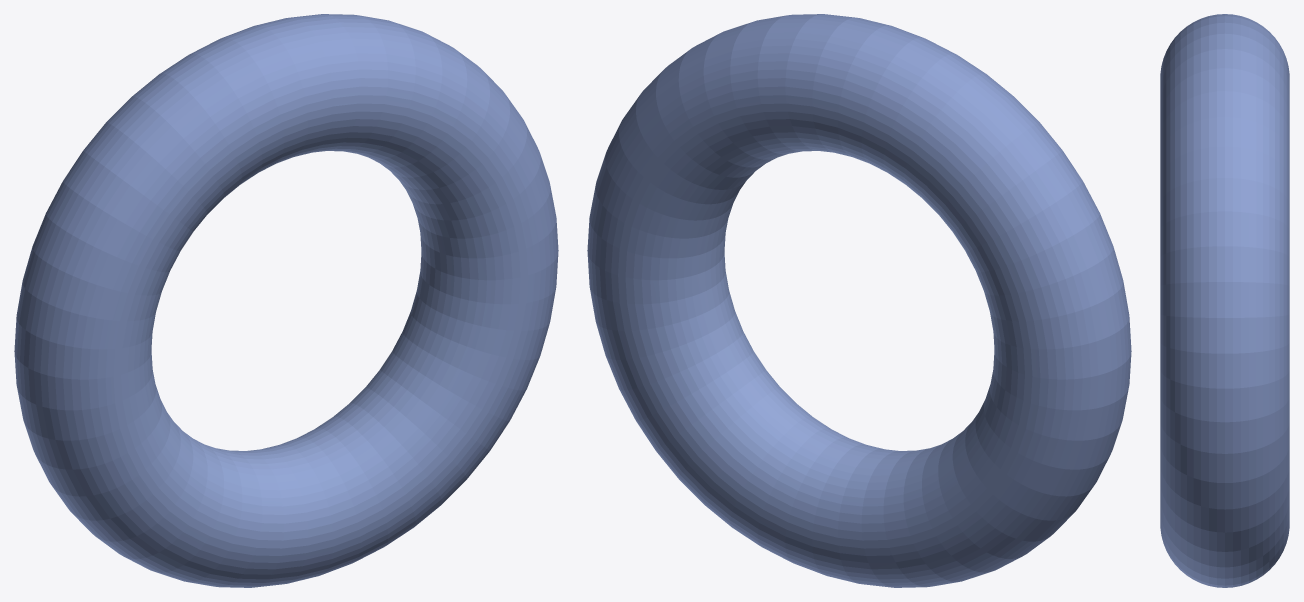
3 views of the same model, side by side, from view 1: azimuth 30°, elevation 25°; view 2: azimuth 150°, elevation 25°; view 3: azimuth 270°, elevation 25° (orthographic). The views are drawn at different scales.
Visible parts, largest first — view 1: world; view 2: world; view 3: world.
Part boxes in pixels (<box>): world: <box>14,14,558,587</box>; world: <box>587,14,1131,587</box>; world: <box>1160,14,1289,587</box>.
Size of the model in its own units: 20.67 by 20.63 by 4.66.
